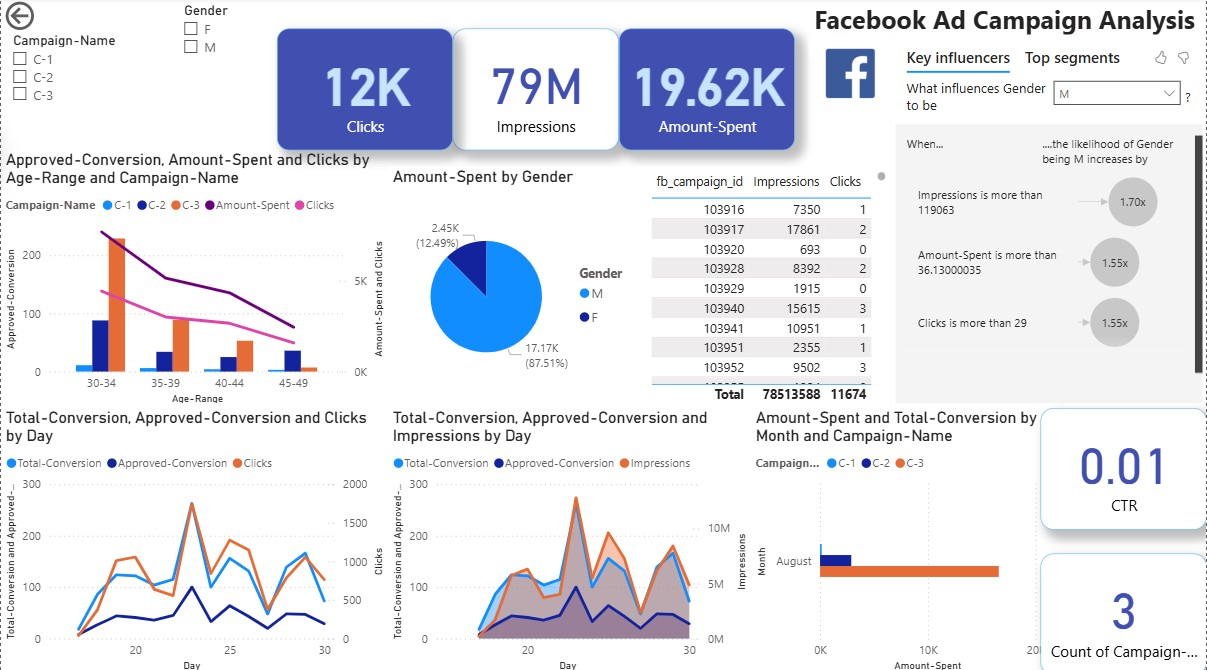

This screenshot's page, from the dashboard's own definition file:
{"tool":"powerbi","page":{"name":"Page 1","canvas":[1280,720],"ordinal":0},"visuals":[{"type":"lineClusteredColumnComboChart","fields":{"Category":["data.Age-Range","data.Total-Conversion"],"Series":["data.Campaign-Name"],"Y2":["Sum(data.Amount-Spent)","Sum(data.Clicks)"],"Y":["Sum(data.Approved-Conversion)"]},"box":[0,162.5,411,274],"z":0},{"type":"slicer","fields":{"Values":["data.Campaign-Name"]},"box":[0,31.9,181.6,130.6],"z":1000},{"type":"lineChart","fields":{"Category":["data.Reporting-Start.Variation.Date Hierarchy.Day"],"Y":["Sum(data.Total-Conversion)","Sum(data.Approved-Conversion)"],"Y2":["Sum(data.Clicks)"]},"box":[0,436.5,411,283.5],"z":2000},{"type":"slicer","fields":{"Values":["data.Gender 2"]},"box":[181.6,0,111.5,162.5],"z":3000},{"type":"areaChart","fields":{"Category":["data.Reporting-Start.Variation.Date Hierarchy.Day"],"Y2":["Sum(data.Impressions)"],"Y":["Sum(data.Total-Conversion)","Sum(data.Approved-Conversion)"]},"box":[411,436.5,385.5,283.5],"z":4000},{"type":"card","fields":{"Values":["Sum(data.Impressions)"]},"box":[479.5,33.5,176.8,129],"z":5000},{"type":"card","fields":{"Values":["Sum(data.Amount-Spent)"]},"box":[656.3,33.5,186.4,129],"z":6000},{"type":"card","fields":{"Values":["Sum(data.Clicks)"]},"box":[293.1,33.5,186.4,129],"z":7000},{"type":"pieChart","fields":{"Category":["data.Gender","data.Age-Range"],"Y":["Sum(data.Amount-Spent)"]},"box":[411,180,274,256.5],"z":8000},{"type":"textbox","box":[858.6,0,422.1,63.7],"z":9000},{"type":"clusteredBarChart","fields":{"Series":["data.Campaign-Name"],"Y":["Sum(data.Amount-Spent)"],"Category":["data.Reporting-Start.Variation.Date Hierarchy.Month","data.Reporting-Start.Variation.Date Hierarchy.Day"]},"box":[796.5,436.5,317,283.5],"z":10000},{"type":"actionButton","box":[0,0,100,40],"z":11000},{"type":"tableEx","fields":{"Values":["data.fb_campaign_id","Sum(data.Impressions)","Sum(data.Clicks)"]},"box":[685,180,259.6,256.5],"z":12000},{"type":"keyDriversVisual","fields":{"Target":["data.Gender"],"ExplainBy":["Sum(data.Clicks)","Sum(data.Impressions)","Sum(data.Amount-Spent)"]},"box":[944.6,39.8,336.1,396.6],"z":13000},{"type":"image","box":[858.6,39.8,86,82.8],"z":14000},{"type":"card","fields":{"Values":["Count(data.Campaign-Name)"]},"box":[1103.9,591,176.8,129],"z":14001},{"type":"card","fields":{"Values":["data.CTR"]},"box":[1103.9,436.5,176.8,129],"z":14002}]}

Visuals, with their boxes in screenshot pixels (x1, y1, x2, y2), scaled from the page's 1280x720 canvas onto the 1207x670 screenshot:
lineClusteredColumnComboChart - data.Age-Range x data.Total-Conversion: <box>0,151,388,406</box>
slicer - data.Campaign-Name: <box>0,30,171,151</box>
lineChart - data.Reporting-Start.Variation.Date Hierarchy.Day x Sum(data.Total-Conversion): <box>0,406,388,669</box>
slicer - data.Gender 2: <box>171,0,276,151</box>
areaChart - data.Reporting-Start.Variation.Date Hierarchy.Day x Sum(data.Impressions): <box>388,406,751,669</box>
card - Sum(data.Impressions): <box>452,31,619,151</box>
card - Sum(data.Amount-Spent): <box>619,31,795,151</box>
card - Sum(data.Clicks): <box>276,31,452,151</box>
pieChart - data.Gender x data.Age-Range: <box>388,168,646,406</box>
textbox: <box>810,0,1206,59</box>
clusteredBarChart - data.Campaign-Name x Sum(data.Amount-Spent): <box>751,406,1050,669</box>
actionButton: <box>0,0,94,37</box>
tableEx - data.fb_campaign_id x Sum(data.Impressions): <box>646,168,891,406</box>
keyDriversVisual - data.Gender x Sum(data.Clicks): <box>891,37,1206,406</box>
image: <box>810,37,891,114</box>
card - Count(data.Campaign-Name): <box>1041,550,1206,669</box>
card - data.CTR: <box>1041,406,1206,526</box>
